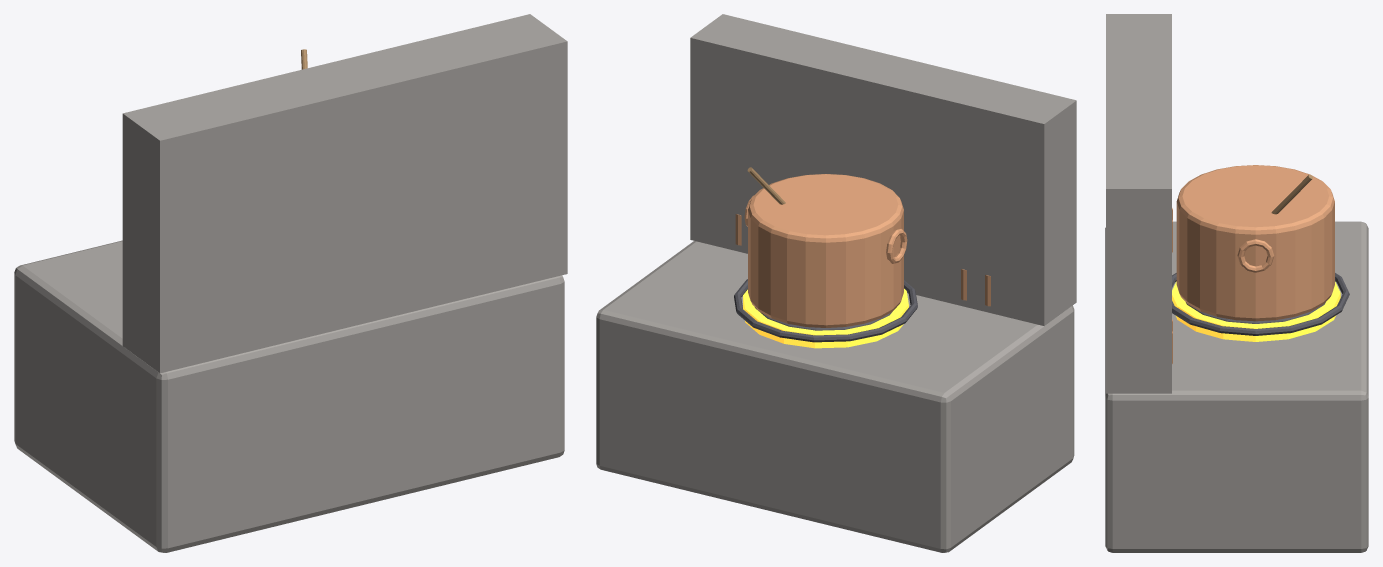
File: restaurant_kitchen_hearth.glb
3 renders of one model, left to right at view 1: azimuth 30°, elevation 25°; view 2: azimuth 150°, elevation 25°; view 3: azimuth 270°, elevation 25°, orthographic. The views are drawn at different scales.
Visible parts, largest first — view 1: HearthBacksplash, HearthBody; view 2: HearthBody, HearthBacksplash, SoupCauldron, FirePit, TrivetRing_0.48; view 3: HearthBody, HearthBacksplash, SoupCauldron, FirePit, TrivetRing_0.48, CauldronHandle_0.44, TrivetRing_0.38.
Part boxes in pixels (x1,y1,x2,y2): HearthBacksplash: (122,14,567,373); HearthBody: (14,240,564,552); HearthBody: (596,241,1074,552); HearthBacksplash: (690,14,1076,325); SoupCauldron: (748,174,903,327); FirePit: (743,288,908,348); TrivetRing_0.48: (734,279,917,342); HearthBody: (1105,221,1368,552); HearthBacksplash: (1106,14,1171,393); SoupCauldron: (1176,165,1334,321); FirePit: (1172,281,1340,341); TrivetRing_0.48: (1172,273,1349,335); CauldronHandle_0.44: (1237,239,1273,272); TrivetRing_0.38: (1186,302,1325,323).
Bounding box in the file's own units: 2.2 × 2.15 × 1.4.
